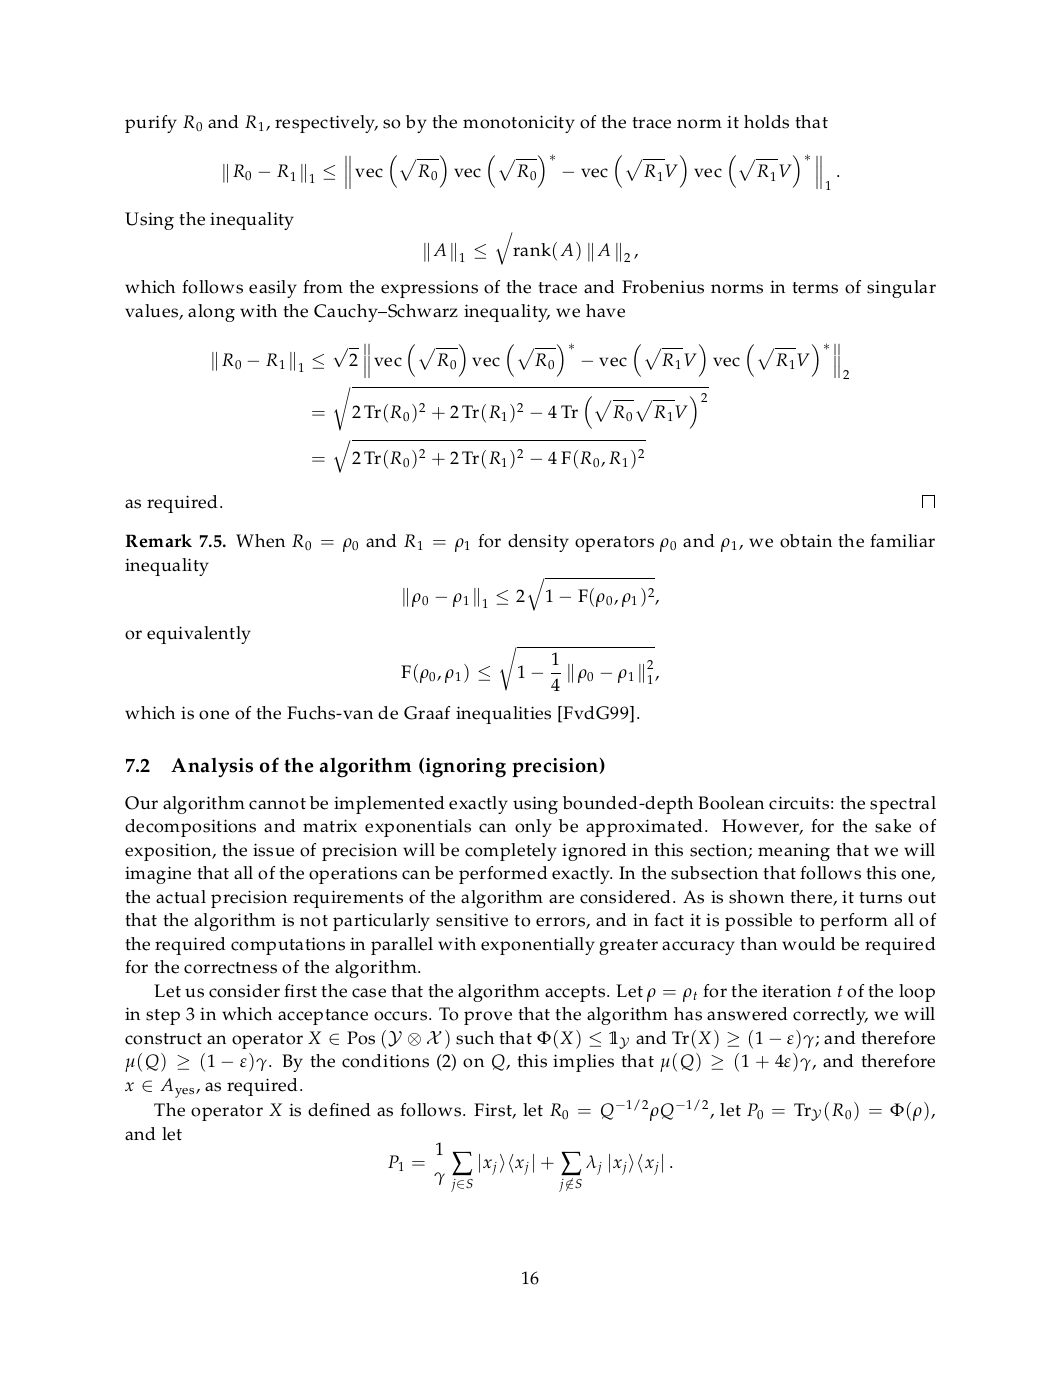formula: (212, 342, 849, 379), (223, 153, 839, 189), (312, 384, 708, 431), (388, 1141, 672, 1192), (312, 439, 645, 473), (401, 647, 658, 690), (403, 578, 658, 610), (424, 231, 637, 265)
